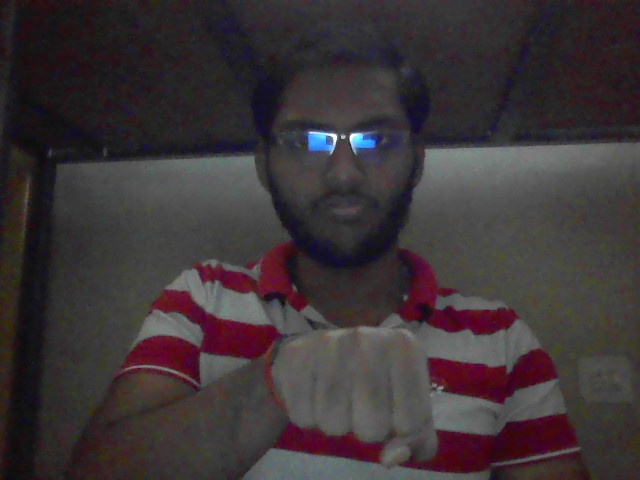Not_Hungry: (249, 306, 463, 475)
